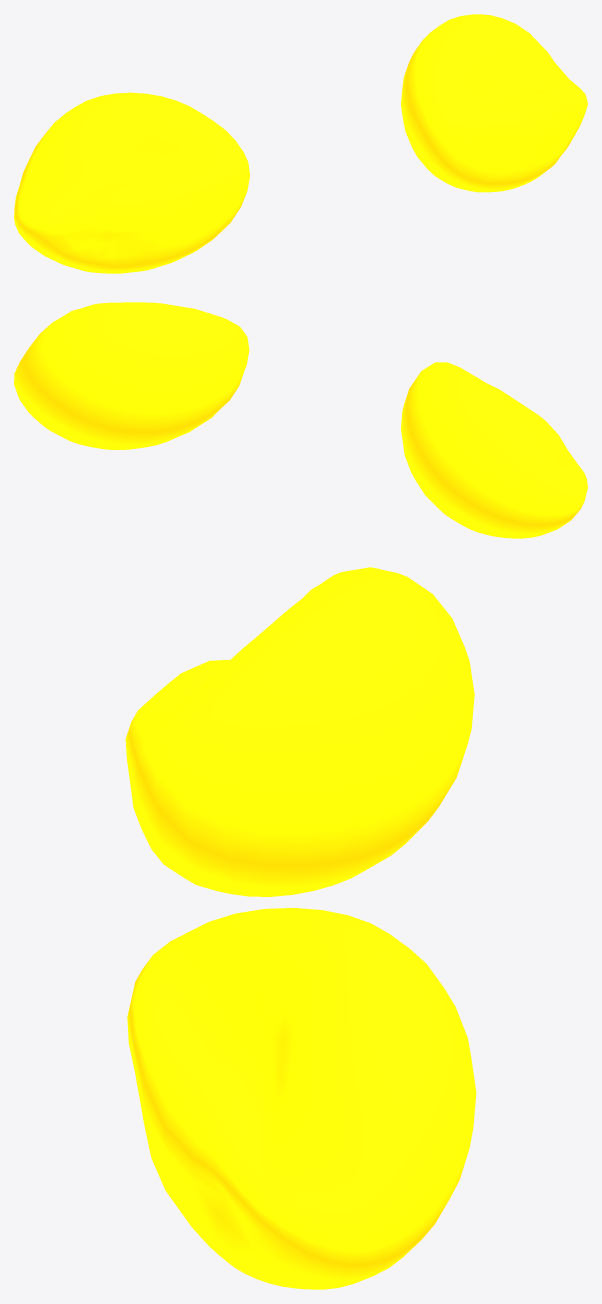
Rendered from Zombie-Orange.glb.
3 renders of one model, top to bottom at view 1: azimuth 30°, elevation 25°; view 2: azimuth 150°, elevation 25°; view 3: azimuth 270°, elevation 25°, orthographic. The views are drawn at different scales.
Parts seen in each view (by area): view 1: Sphere.001; view 2: Sphere.001; view 3: Sphere.001.
Boxes of the visible parts, x1,y1,x2,y2 form: Sphere.001: (14,14,587,273); Sphere.001: (14,302,587,538); Sphere.001: (125,567,476,1289).
Size of the model in its own units: 0.3788 by 0.1042 by 0.1024.
